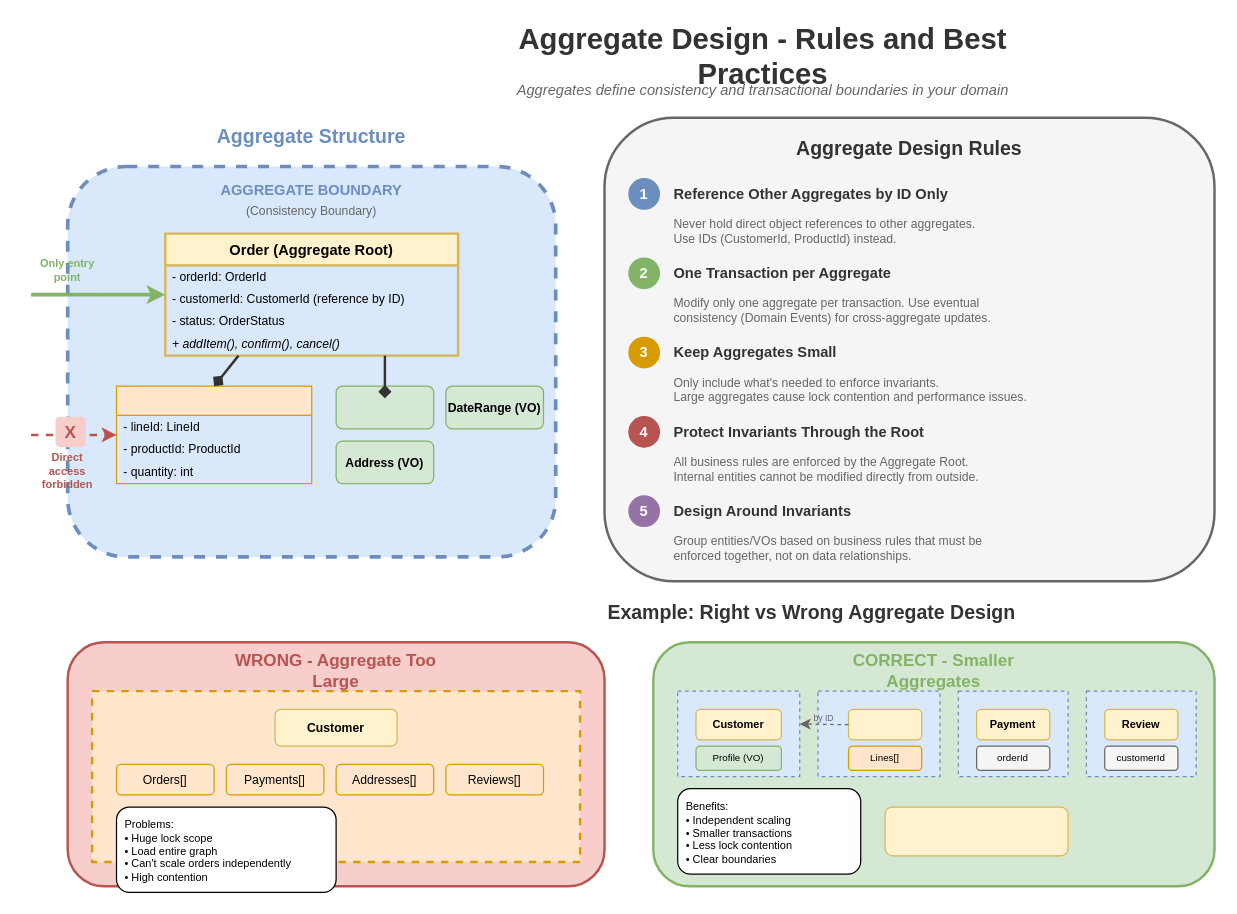
Image size: 1237x914. Some labels were removed from this diagram. The shapes that lost their labels are listed below. From the top down, each one's box as (x1, y1, x2, y2) in pixels, then its label:
(335, 385, 434, 429): Money (VO)
(115, 385, 312, 484): OrderLine (Entity)
(847, 708, 922, 740): Order
(884, 806, 1068, 856): Domain Events for cross-aggregate communication
